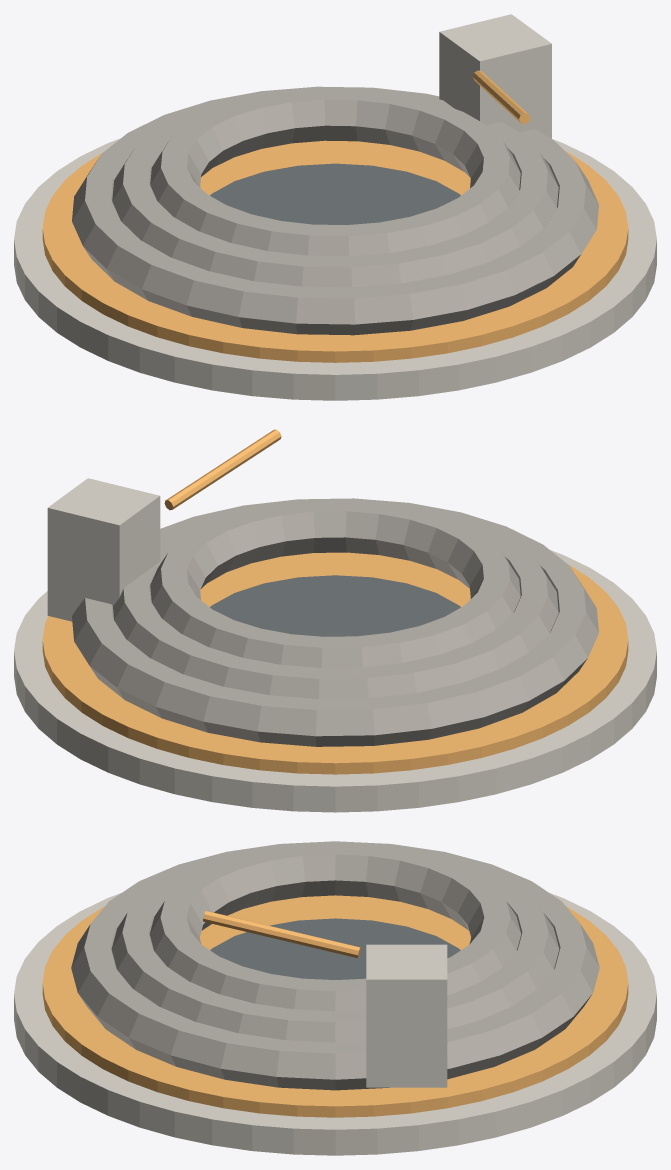
The model's file is hole.glb.
3 renders of one model, top to bottom at view 1: azimuth 30°, elevation 25°; view 2: azimuth 150°, elevation 25°; view 3: azimuth 270°, elevation 25°, orthographic.
Parts seen in each view (by area): view 1: Cone.003; view 2: Cone.003; view 3: Cone.003.
Part boxes in pixels (x1=…): Cone.003: x1=14, y1=14, x2=656, y2=400; Cone.003: x1=14, y1=429, x2=656, y2=812; Cone.003: x1=14, y1=841, x2=656, y2=1155.
Bounding box in the file's own units: 2.7 × 0.7848 × 2.7.
